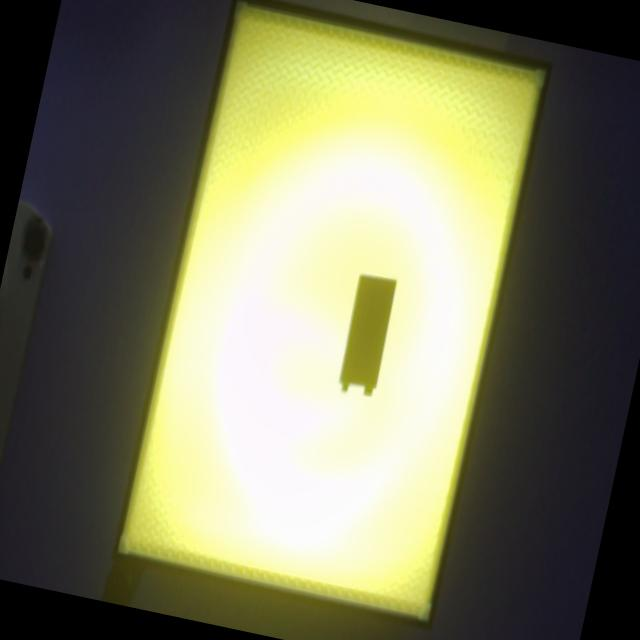bateria: (338, 271, 398, 395)
mesa: (110, 0, 553, 630)
